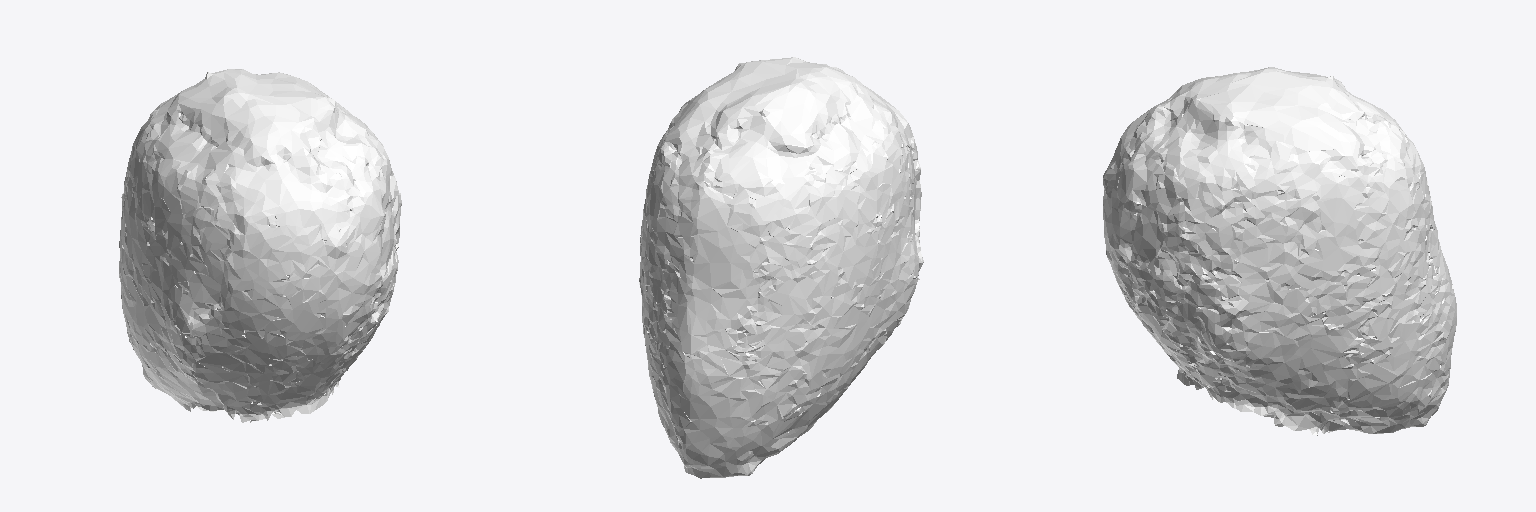
The model's file is hanzawamask01.obj.
The picture shows the model from 3 angles: view 1: azimuth 30°, elevation 25°; view 2: azimuth 150°, elevation 25°; view 3: azimuth 270°, elevation 25°; orthographic projection.
Visible parts, largest first — view 1: default; view 2: default; view 3: default.
Boxes of the visible parts, x1=… form: default: x1=119, y1=69, x2=401, y2=422; default: x1=639, y1=57, x2=923, y2=478; default: x1=1103, y1=67, x2=1456, y2=435.
Size of the model in its own units: 0.1478 by 0.2162 by 0.1991.